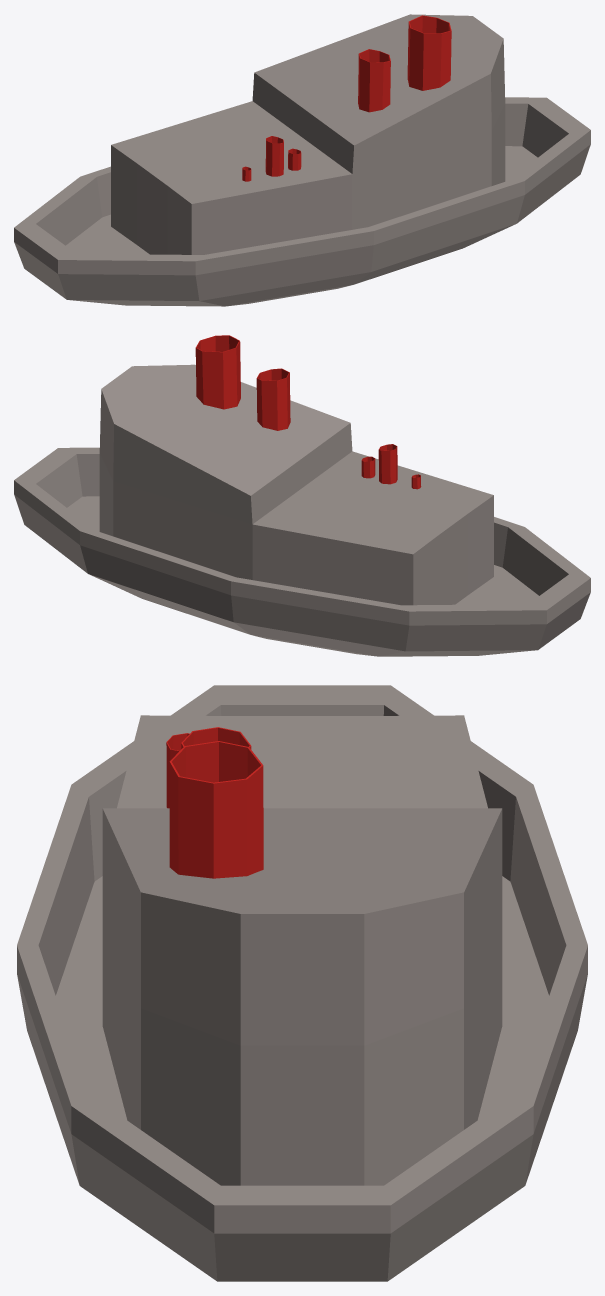
The model's file is Navio.fbx.
The picture shows the model from 3 angles, top to bottom: view 1: azimuth 30°, elevation 25°; view 2: azimuth 150°, elevation 25°; view 3: azimuth 270°, elevation 25°; orthographic projection. The views are drawn at different scales.
Visible parts, largest first — view 1: Barco.002; view 2: Barco.002; view 3: Barco.002.
Boxes of the visible parts, x1,y1,x2,y2 form: Barco.002: [14, 14, 590, 306]; Barco.002: [14, 335, 590, 656]; Barco.002: [17, 685, 587, 1281].
Size of the model in its own units: 4723 by 2008 by 2192.
